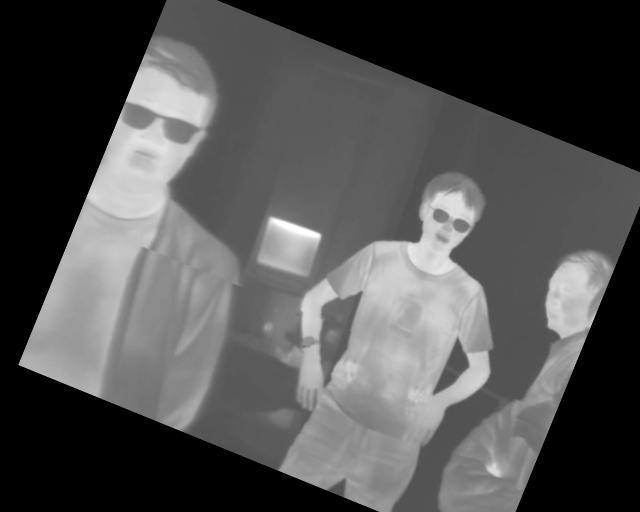face: (95, 28, 238, 209), (404, 161, 493, 263)
